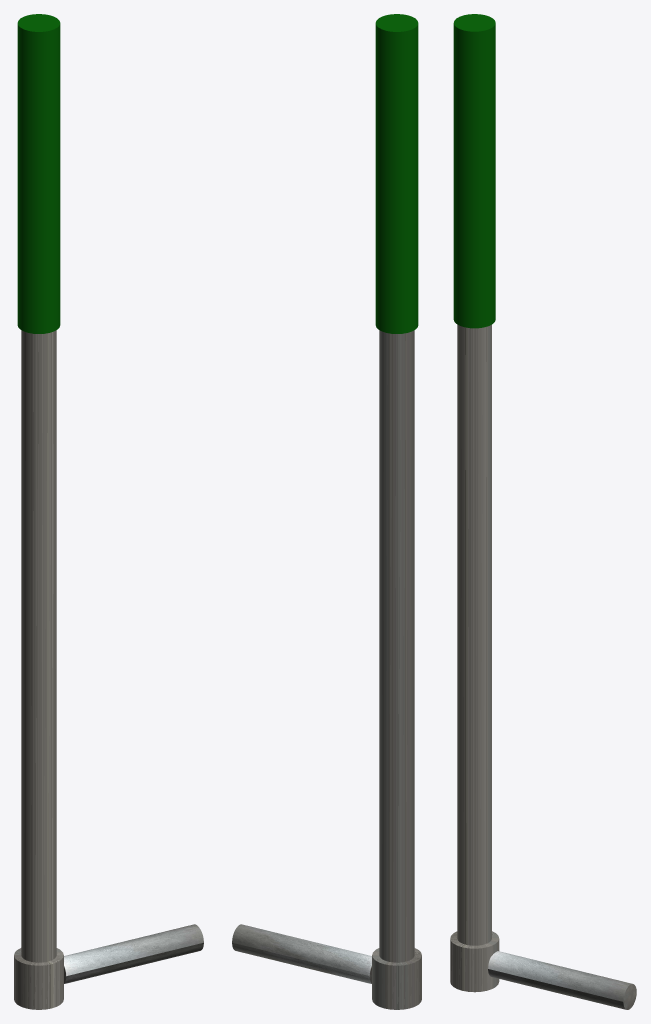
Rendered from L_TOOL.fbx.
3 views of the same model, side by side, from view 1: azimuth 30°, elevation 25°; view 2: azimuth 150°, elevation 25°; view 3: azimuth 330°, elevation 25° (orthographic).
Parts seen in each view (by area): view 1: L_TOOL, L_TOOL_HANDAL; view 2: L_TOOL, L_TOOL_HANDAL; view 3: L_TOOL, L_TOOL_HANDAL.
Boxes of the visible parts, x1,y1,x2,y2 form: L_TOOL: (14, 330, 203, 1009); L_TOOL_HANDAL: (17, 14, 60, 333); L_TOOL: (232, 330, 421, 1009); L_TOOL_HANDAL: (375, 14, 418, 333); L_TOOL: (450, 324, 636, 1009); L_TOOL_HANDAL: (453, 14, 495, 328).
Bounding box in the file's own units: 23.81 × 124 × 5.72.
2 materials, 2 textured.
